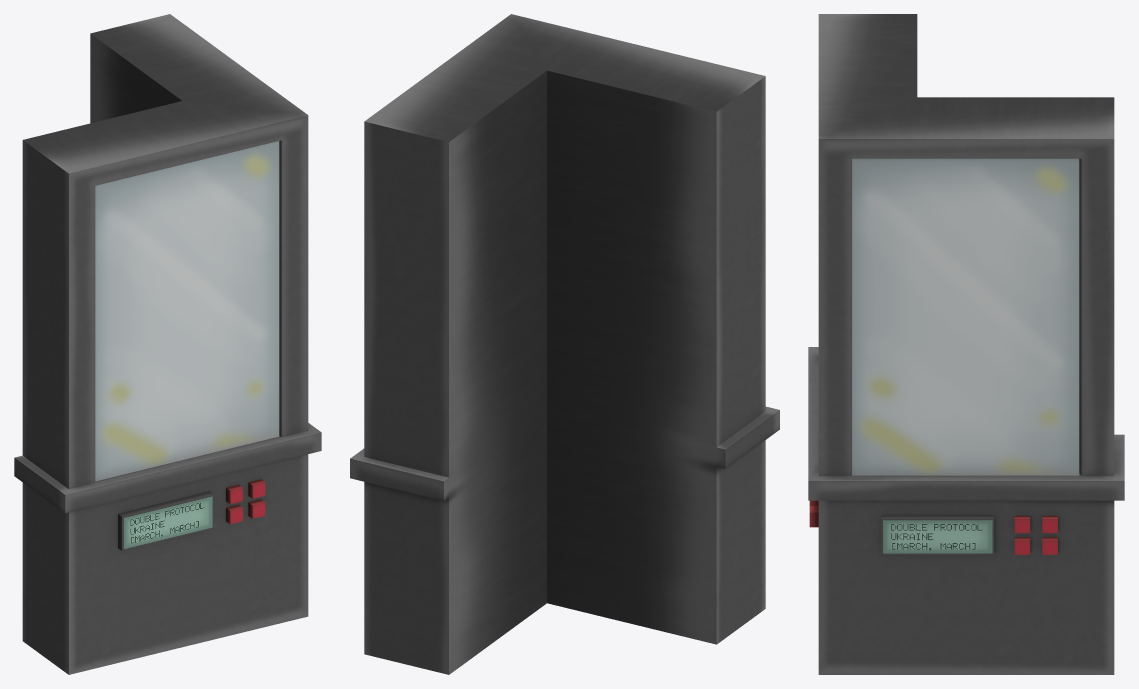
Rendered from vendingmachine.gltf.
3 views of the same model, side by side, from view 1: azimuth 30°, elevation 25°; view 2: azimuth 150°, elevation 25°; view 3: azimuth 270°, elevation 25° (orthographic). The views are drawn at different scales.
Parts seen in each view (by area): view 1: vm; view 2: vm; view 3: vm.
Part boxes in pixels (bbox=[...]): vm: bbox=[14, 14, 321, 674]; vm: bbox=[350, 14, 779, 674]; vm: bbox=[808, 14, 1124, 674].
Size of what is drawn, in the model's own units: 1.61 by 3 by 1.61.
2 materials, 2 textured.
